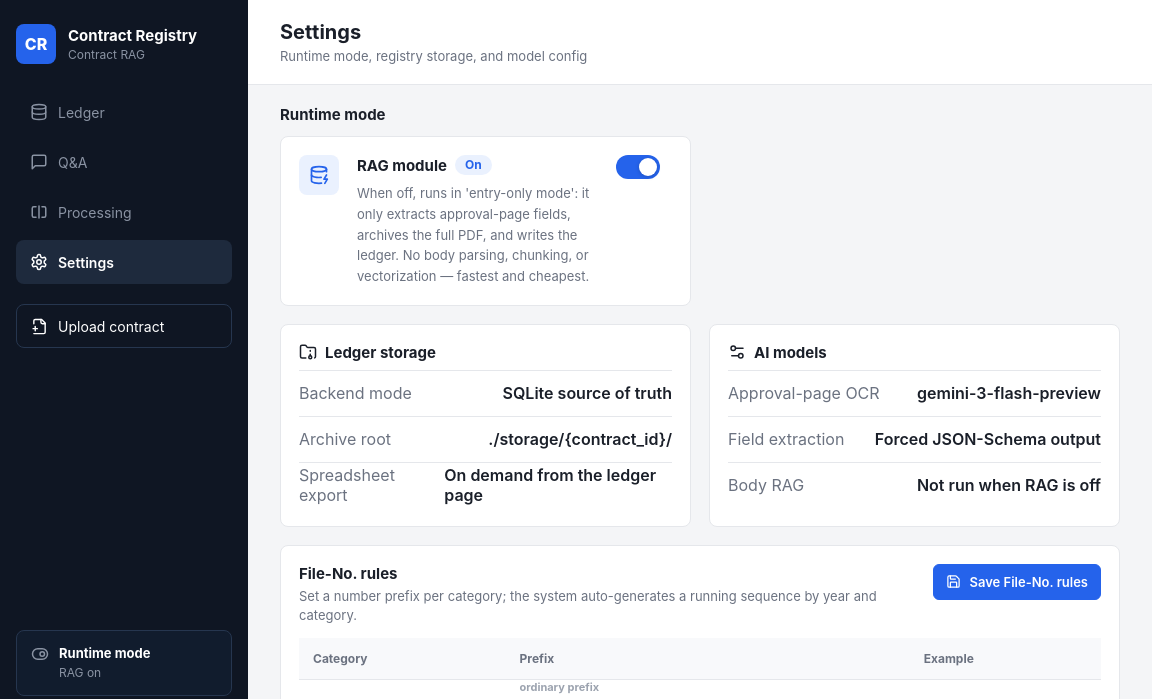
Test: Contract-RAG frontend › rolls back a settings toggle when saving config fails
What coordinates should you click on to do the following:
click the button named "RAG module"
I would click on:
 (638, 167)
Its box is [616,155,660,179].
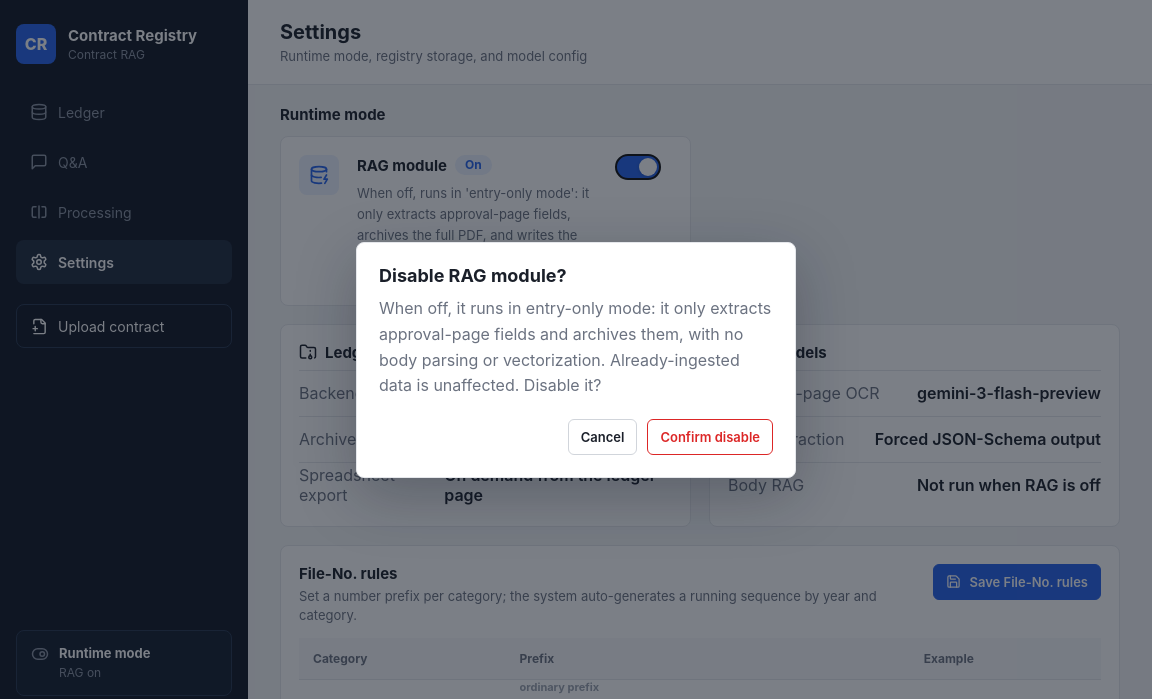
What coordinates should you click on to do the following:
click the button "Confirm disable"
I would click on:
 (710, 437)
Its box is [647,419,773,455].
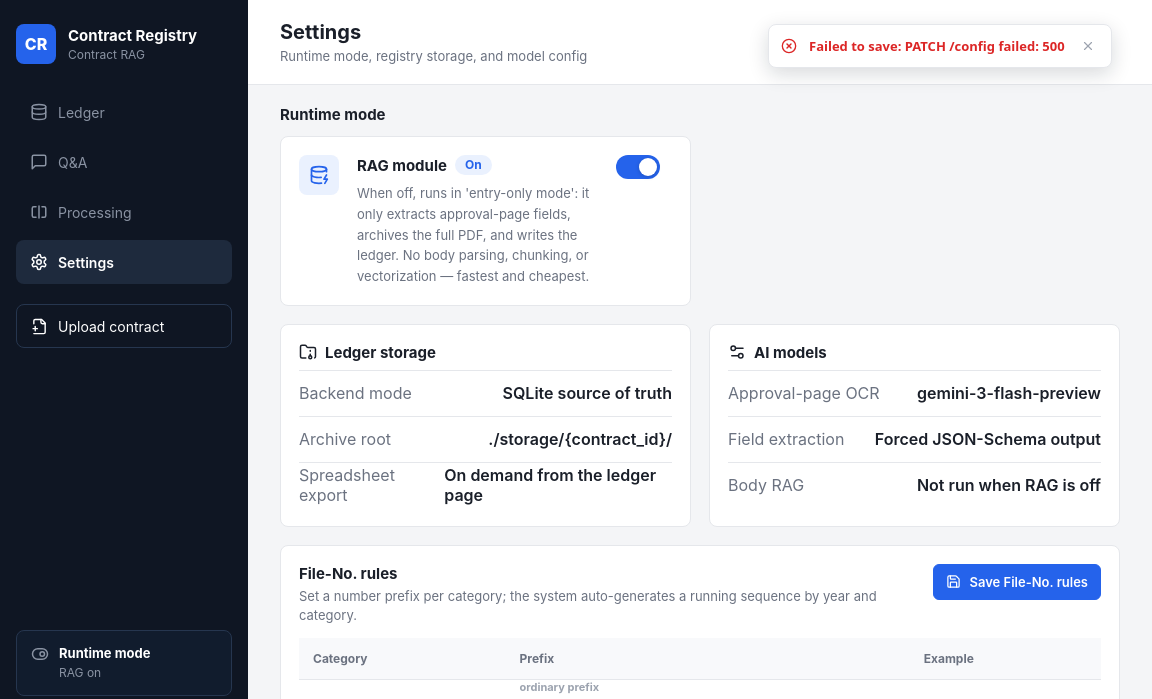
Expected: the heading "RAG module On" is shown, [357,155,492,175]
Result: the text "Failed to save: PATCH /config failed: 500" is shown at [809,37,1065,55]
